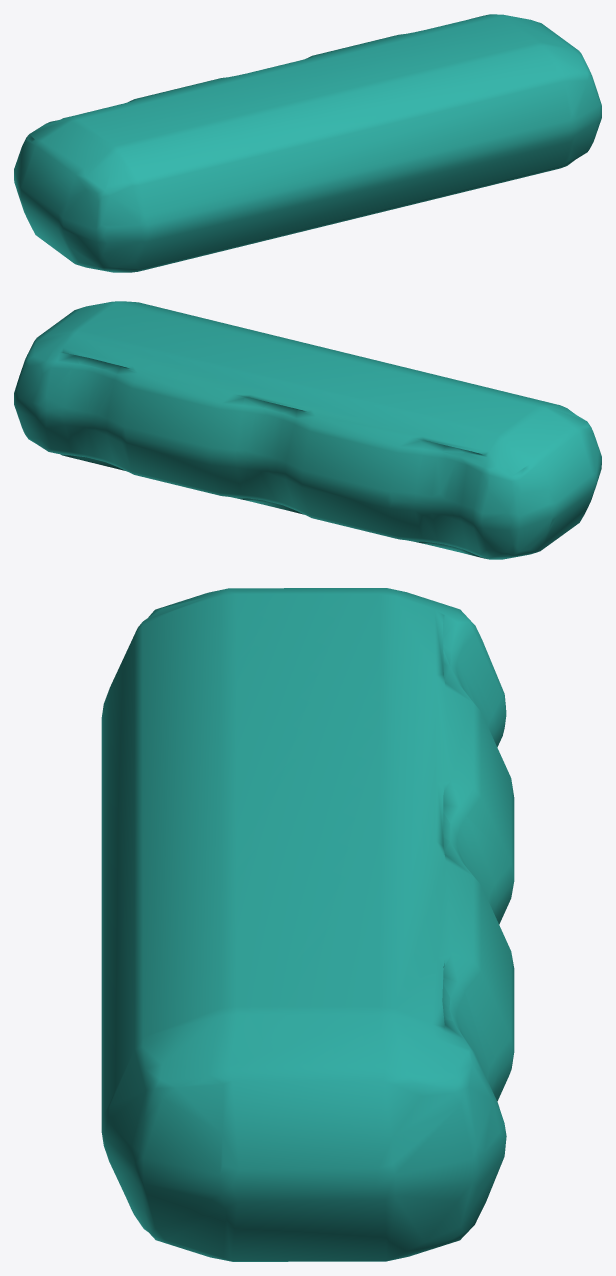
File: shore_spade_grip_lod1.glb
3 renders of one model, top to bottom at view 1: azimuth 30°, elevation 25°; view 2: azimuth 150°, elevation 25°; view 3: azimuth 270°, elevation 25°, orthographic. The views are drawn at different scales.
Parts seen in each view (by area): view 1: shore_spade_grip.001; view 2: shore_spade_grip.001; view 3: shore_spade_grip.001.
Boxes of the visible parts, box(x1,y1,x2,y2) form: shore_spade_grip.001: box(14, 14, 601, 272); shore_spade_grip.001: box(14, 301, 601, 559); shore_spade_grip.001: box(101, 588, 514, 1261).
Size of the model in its own units: 9 by 2 by 3.
